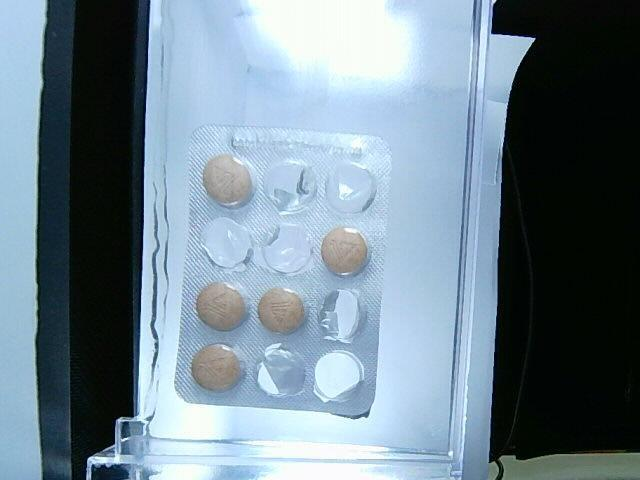Light Front: (172, 124, 393, 421)
No Pill Front: (264, 159, 316, 214), (201, 218, 252, 274), (325, 163, 376, 214), (256, 343, 304, 397), (319, 289, 366, 343), (314, 351, 364, 401), (264, 224, 311, 273)
Pill Front: (196, 283, 248, 331), (204, 155, 252, 206), (321, 226, 369, 276), (193, 345, 241, 390), (258, 288, 304, 333)
